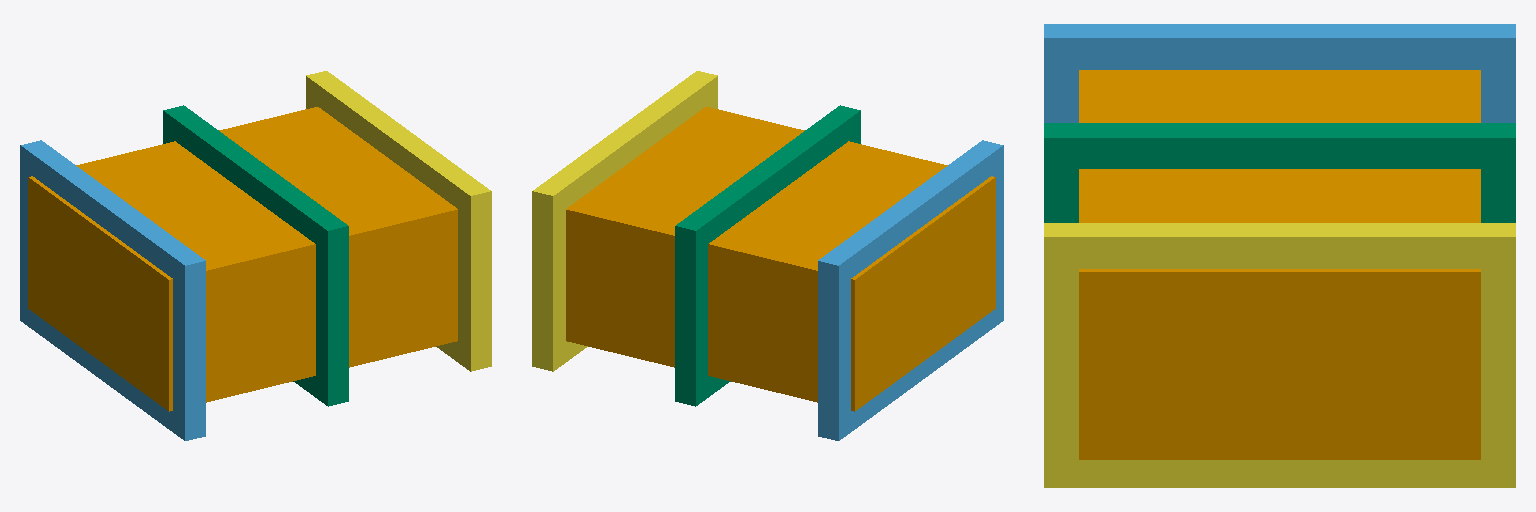
The robot description file, URDF, robot "debris022":
<?xml version="1.0" ?>
<robot name="debris022">

<link name="debris022">
<visual> <origin xyz="0 0 0" rpy="0 0 0" />
<geometry> <box size="0.75 0.58 0.30"/> </geometry>
</visual>
<collision> <origin xyz="0 0 0" rpy="0 0 0" />
<geometry> <box size="0.75 0.58 0.30"/> </geometry>
</collision>
<inertial> <origin xyz="0 0 0" rpy="0 0 0" />
<mass value="10.0" />
<inertia ixx="0.4944" ixy="0" ixz="0" iyy="0.4944" iyz="0" izz="0.4944" />
</inertial>
</link>
<gazebo reference="debris022"> <material>Gazebo/WoodPallet</material> </gazebo>

<link name="debris0220">
<visual> <origin xyz="-0.34 0 0" rpy="0 0 0" />
<geometry> <box size="0.05 0.68 0.40"/> </geometry>
</visual>
<collision> <origin xyz="-0.34 0 0" rpy="0 0 0" />
<geometry> <box size="0.05 0.68 0.40"/> </geometry>
</collision>
<inertial> <origin xyz="0 0 0" rpy="0 0 0" />
<mass value="0.1" />
<inertia ixx="0.0100" ixy="0" ixz="0" iyy="0.0100" iyz="0" izz="0.0100" />
</inertial>
</link>
<gazebo reference="debris0220"> <material>Gazebo/WoodPallet</material> </gazebo>

<joint name="debris0220joint" type="fixed">
<parent link="debris022"/>
<child link="debris0220"/>
<origin xyz="0 0 0" rpy="0 0 0" />
</joint>

<link name="debris0221">
<visual> <origin xyz="0.00 0 0" rpy="0 0 0" />
<geometry> <box size="0.05 0.68 0.40"/> </geometry>
</visual>
<collision> <origin xyz="0.00 0 0" rpy="0 0 0" />
<geometry> <box size="0.05 0.68 0.40"/> </geometry>
</collision>
<inertial> <origin xyz="0 0 0" rpy="0 0 0" />
<mass value="0.1" />
<inertia ixx="0.0100" ixy="0" ixz="0" iyy="0.0100" iyz="0" izz="0.0100" />
</inertial>
</link>
<gazebo reference="debris0221"> <material>Gazebo/WoodPallet</material> </gazebo>

<joint name="debris0221joint" type="fixed">
<parent link="debris022"/>
<child link="debris0221"/>
<origin xyz="0 0 0" rpy="0 0 0" />
</joint>

<link name="debris0222">
<visual> <origin xyz="0.34 0 0" rpy="0 0 0" />
<geometry> <box size="0.05 0.68 0.40"/> </geometry>
</visual>
<collision> <origin xyz="0.34 0 0" rpy="0 0 0" />
<geometry> <box size="0.05 0.68 0.40"/> </geometry>
</collision>
<inertial> <origin xyz="0 0 0" rpy="0 0 0" />
<mass value="0.1" />
<inertia ixx="0.0100" ixy="0" ixz="0" iyy="0.0100" iyz="0" izz="0.0100" />
</inertial>
</link>
<gazebo reference="debris0222"> <material>Gazebo/WoodPallet</material> </gazebo>

<joint name="debris0222joint" type="fixed">
<parent link="debris022"/>
<child link="debris0222"/>
<origin xyz="0 0 0" rpy="0 0 0" />
</joint>

</robot>

--- Render facts (derived) ---
The picture shows the robot from 3 angles, left to right: view 1: azimuth 30°, elevation 25°; view 2: azimuth 150°, elevation 25°; view 3: azimuth 270°, elevation 25°; orthographic projection.
Model debris022 with 4 links and 3 joints (3 fixed), rooted at debris022, posed every joint at zero.
Links seen in each view (by area): view 1: debris022, debris0220, debris0222, debris0221; view 2: debris022, debris0220, debris0222, debris0221; view 3: debris022, debris0222, debris0221, debris0220.
Link boxes in pixels (x1,y1,x2,y2): debris022: (28, 107, 457, 411); debris0220: (20, 140, 205, 440); debris0222: (306, 71, 491, 371); debris0221: (163, 105, 348, 406); debris022: (566, 107, 995, 411); debris0220: (818, 140, 1003, 440); debris0222: (532, 71, 717, 371); debris0221: (675, 105, 860, 406); debris022: (1079, 70, 1480, 459); debris0222: (1044, 223, 1515, 487); debris0221: (1044, 123, 1515, 222); debris0220: (1044, 24, 1515, 122).
Bounding box of the posed robot: 0.75 × 0.68 × 0.4 m (x, y, z).
Geometry: primitives only (box / cylinder / sphere), no mesh files.
